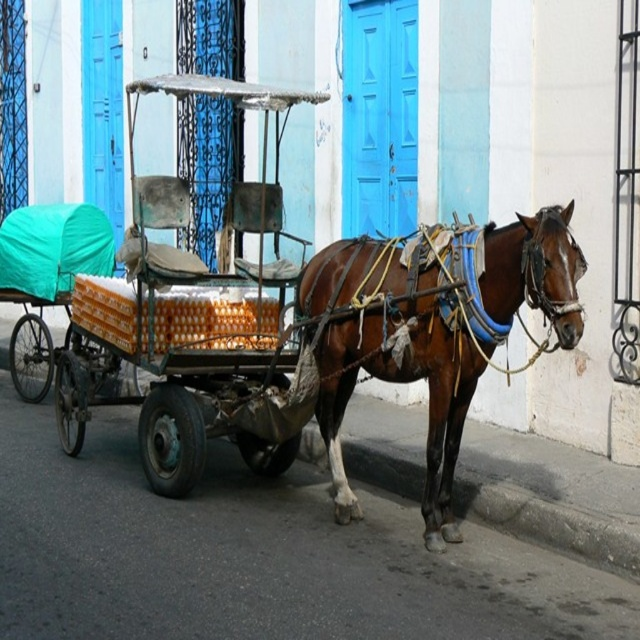Horse: (295, 198, 589, 554)
